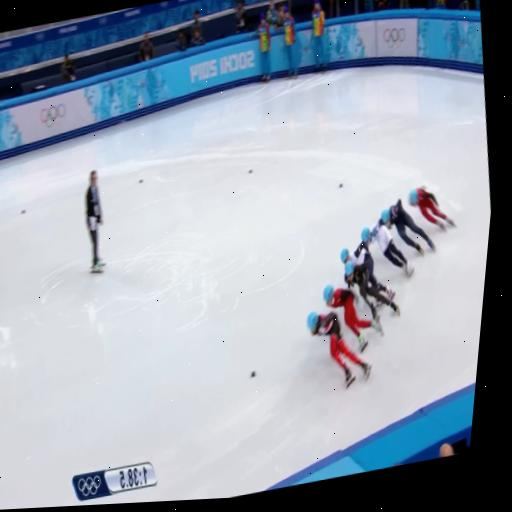Skater: (306, 312, 370, 387), (323, 285, 382, 352), (344, 262, 399, 321), (340, 242, 394, 300), (360, 220, 413, 277), (381, 200, 434, 255), (408, 188, 454, 230)
